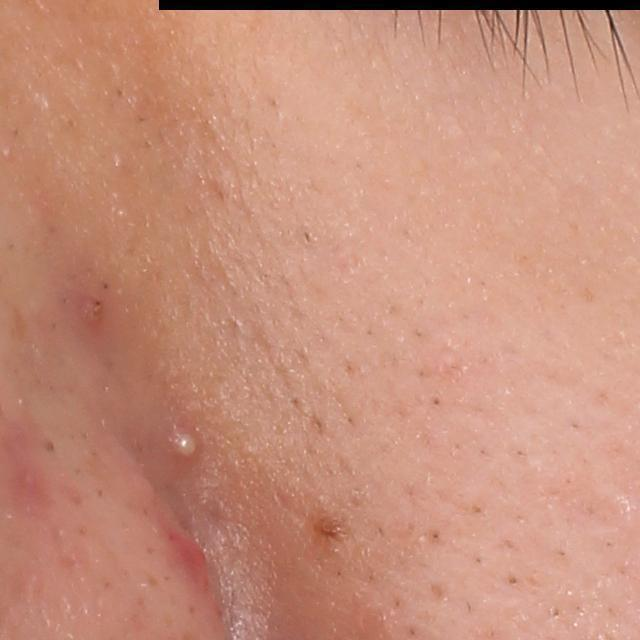nevus: (309, 512, 351, 542)
pustule: (169, 427, 199, 462)
